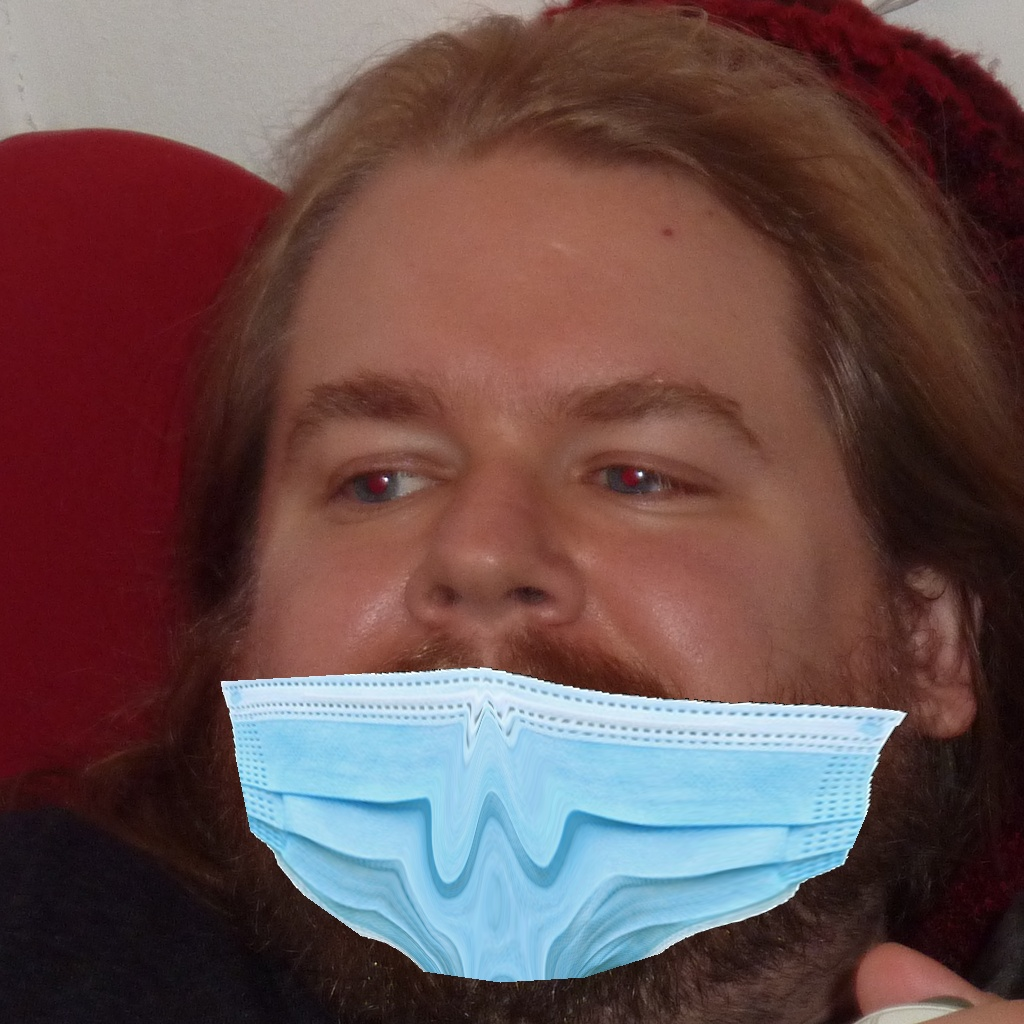mascarilla_mal_puesta: (239, 458, 912, 973)
